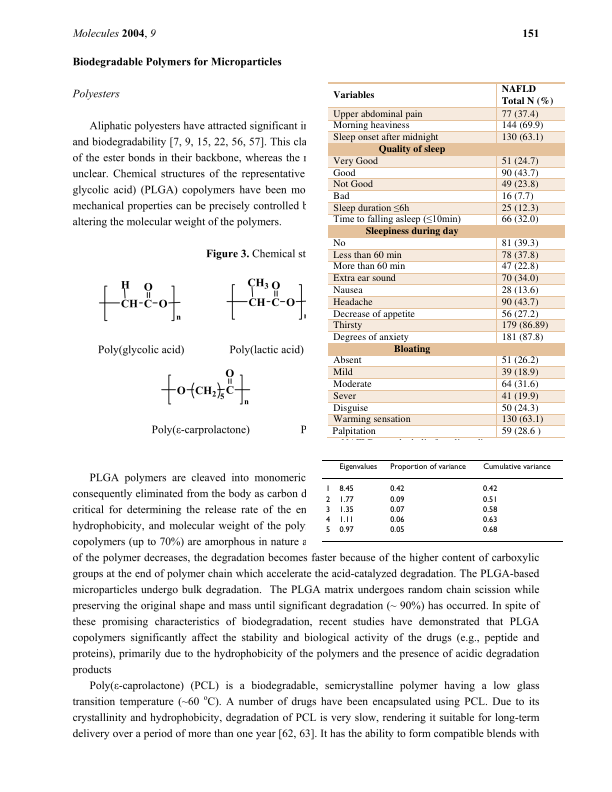borderless: (325, 81, 564, 439), (321, 458, 563, 542)
cell: (332, 212, 461, 227), (332, 131, 439, 144), (500, 83, 554, 108), (364, 225, 459, 238), (332, 108, 423, 121), (332, 201, 410, 216), (332, 307, 415, 321), (332, 413, 411, 426), (332, 119, 410, 132), (332, 331, 409, 344), (332, 260, 405, 273), (332, 249, 402, 262), (377, 143, 446, 156), (332, 272, 396, 285), (389, 462, 466, 472), (482, 462, 551, 472), (500, 319, 549, 332), (332, 155, 378, 168), (331, 425, 376, 438), (500, 119, 544, 132), (500, 131, 544, 144), (500, 331, 544, 344), (500, 413, 544, 426), (332, 89, 375, 102), (500, 166, 539, 180), (500, 307, 539, 321), (392, 342, 431, 356), (500, 401, 539, 415), (332, 178, 373, 191), (332, 296, 373, 309), (500, 425, 541, 438), (332, 378, 372, 391), (332, 401, 369, 415), (500, 108, 539, 121), (500, 155, 539, 168), (500, 178, 539, 191), (500, 202, 539, 215), (500, 213, 539, 226), (500, 237, 539, 250), (500, 249, 539, 262), (500, 260, 539, 273), (500, 272, 539, 285), (500, 284, 539, 297), (500, 296, 539, 309), (500, 354, 539, 367), (500, 366, 539, 379), (500, 378, 539, 391), (500, 390, 539, 403), (500, 190, 534, 203), (332, 284, 363, 297), (332, 319, 363, 332), (338, 462, 378, 472), (332, 354, 362, 367), (332, 166, 356, 180), (332, 390, 356, 403), (332, 366, 353, 379), (332, 190, 350, 203), (332, 237, 346, 250), (338, 495, 354, 505), (389, 495, 405, 505), (482, 495, 498, 505), (338, 505, 354, 515), (389, 505, 405, 515), (482, 505, 498, 515), (338, 515, 354, 525), (389, 515, 405, 525), (482, 515, 498, 525), (338, 485, 354, 494), (389, 485, 405, 494), (482, 485, 498, 494), (338, 526, 354, 535), (389, 526, 405, 535), (482, 526, 498, 535), (324, 495, 331, 505), (324, 505, 331, 515), (324, 515, 331, 525), (324, 485, 331, 494), (324, 526, 331, 535)
